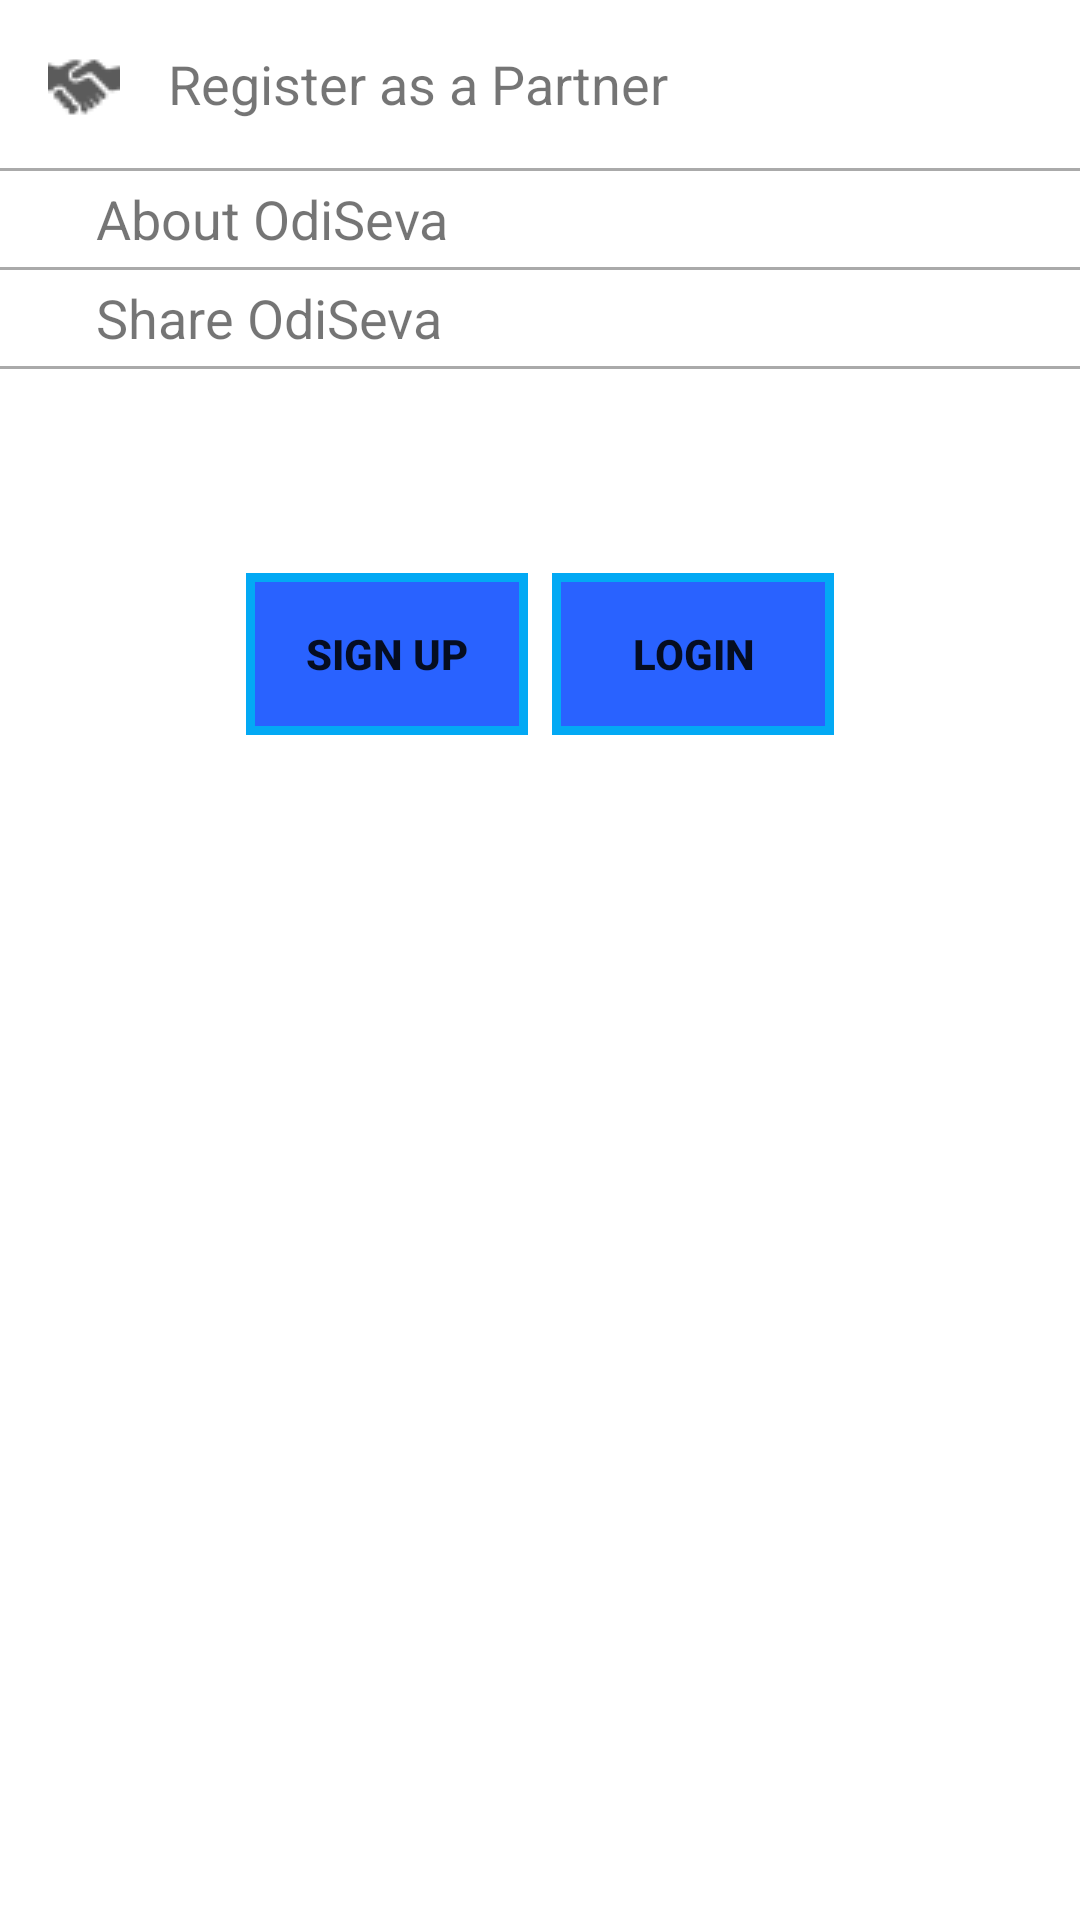

Screen size 1080 × 1920. Icon name, then its center in pixels as point (x, y):
handshake: point (84, 87)
